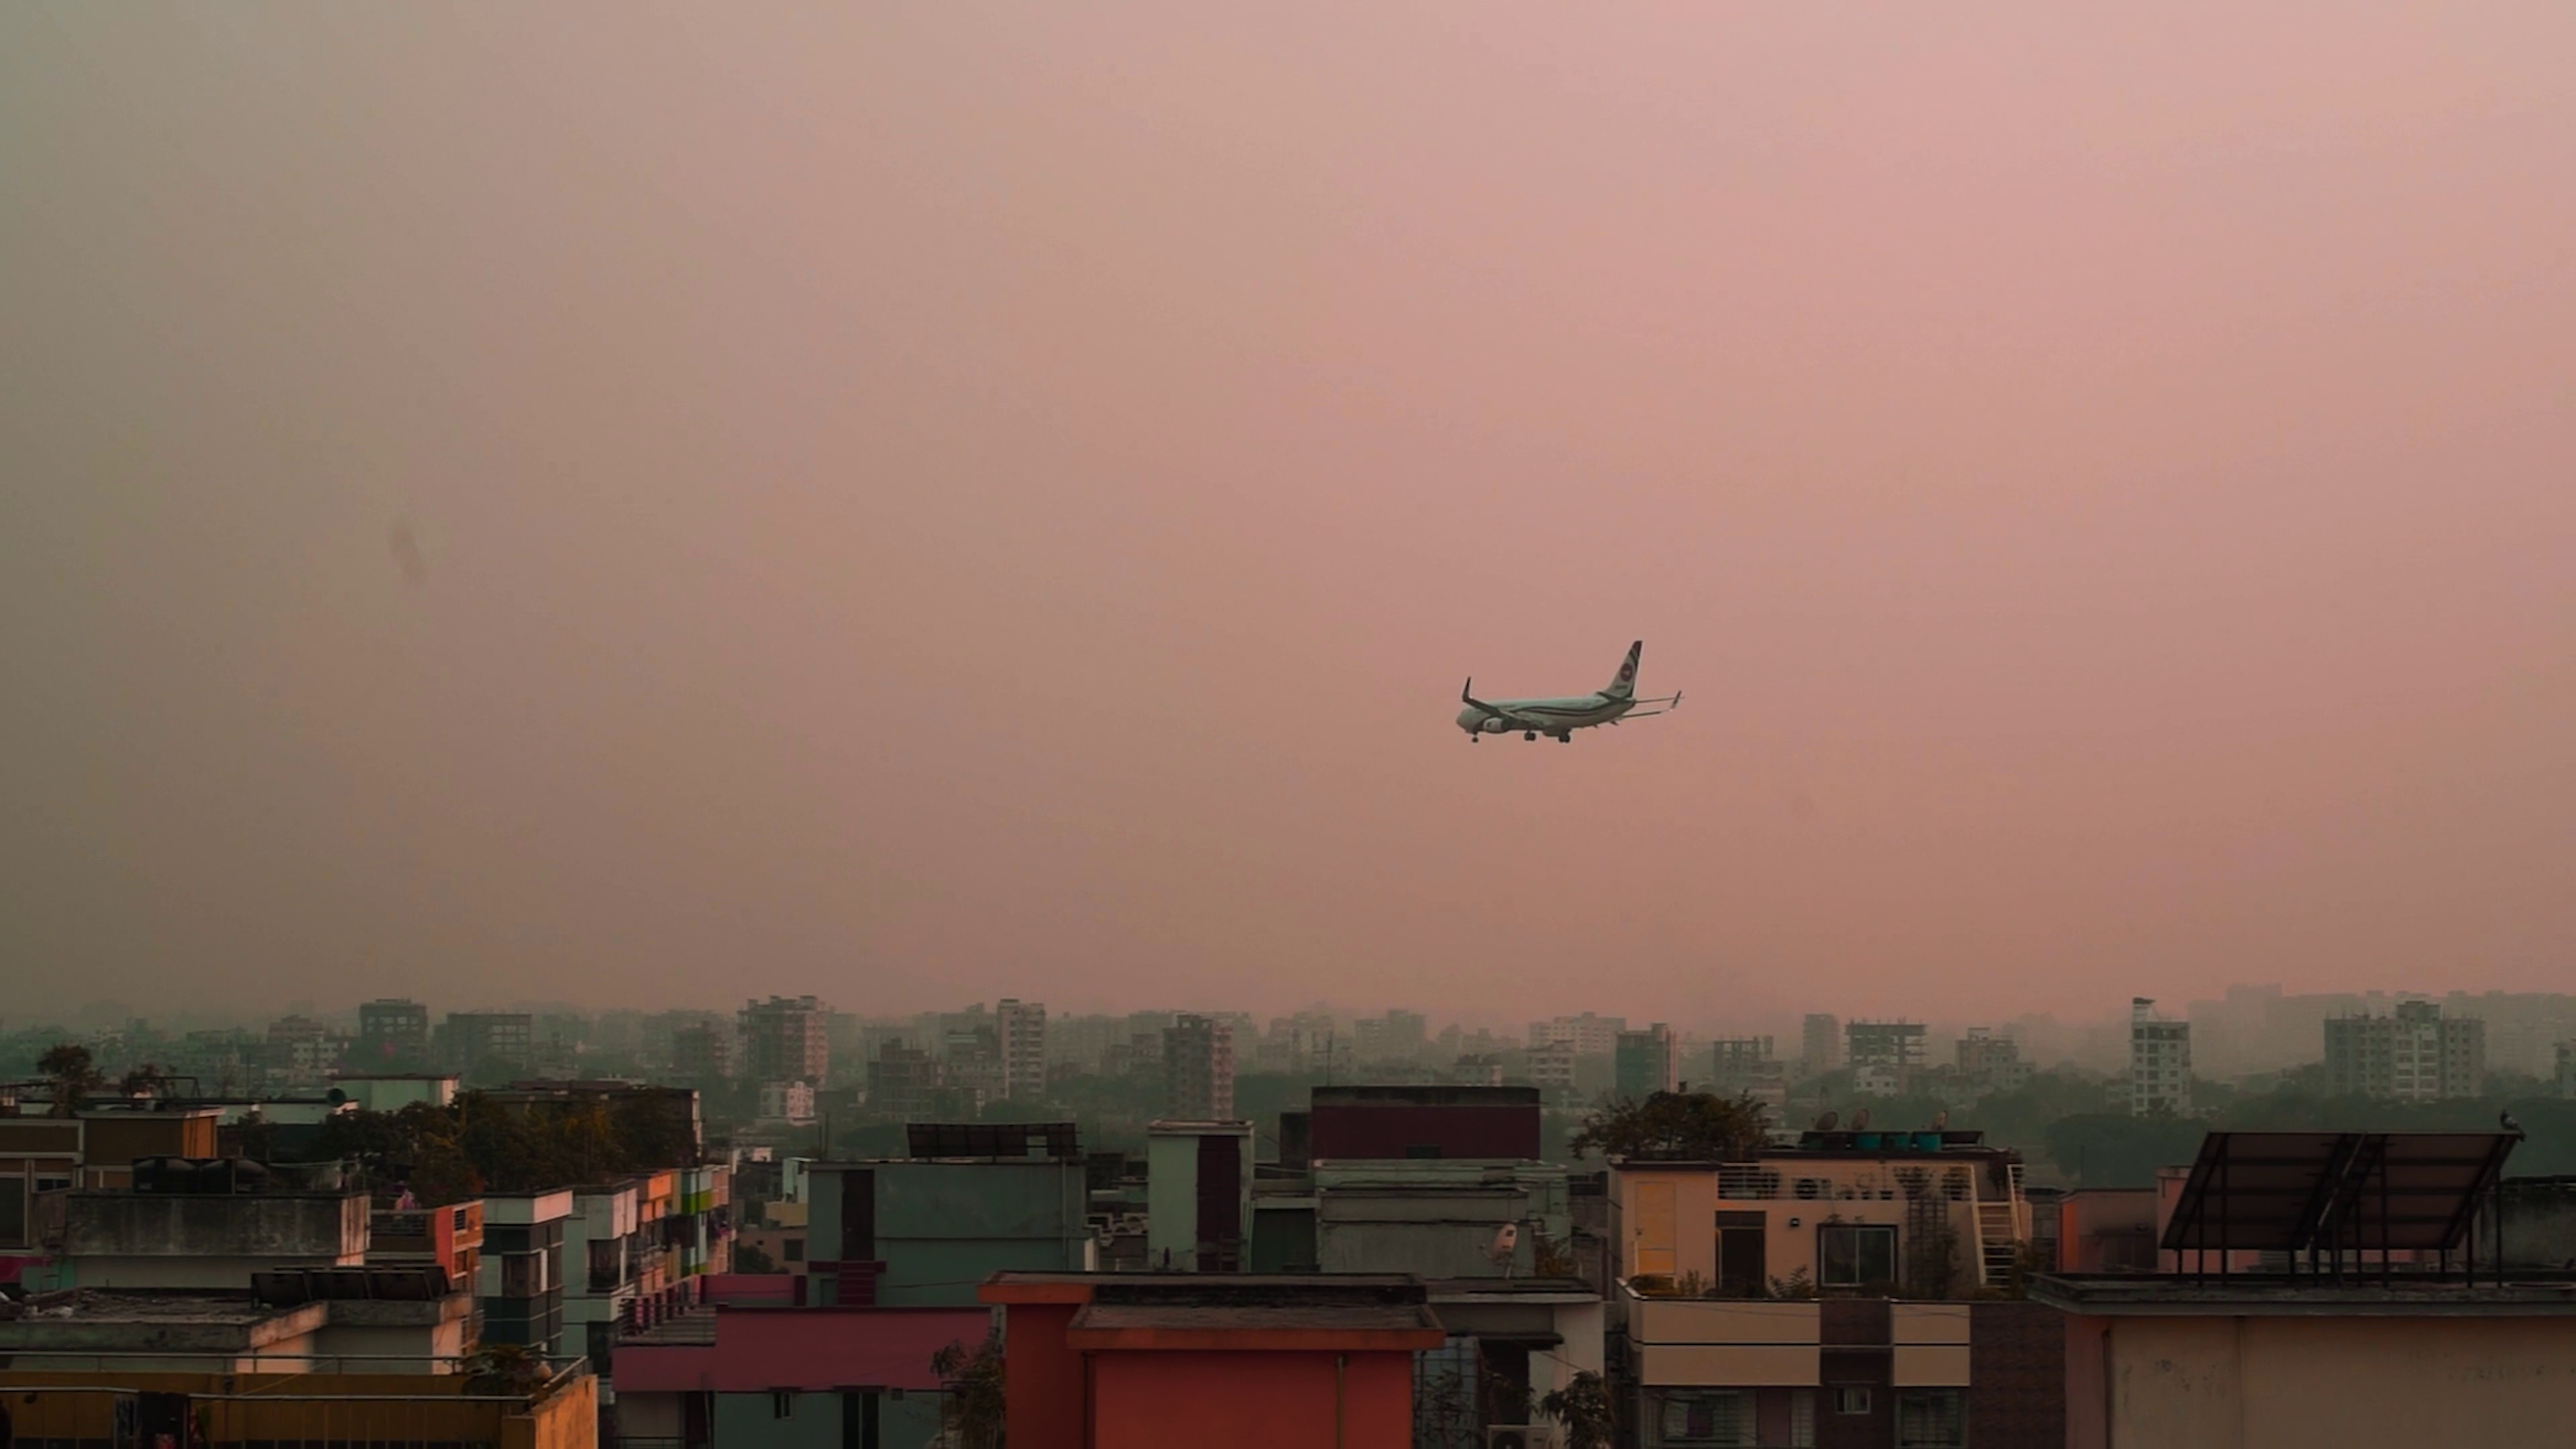plane: (1454, 639, 1691, 743)
